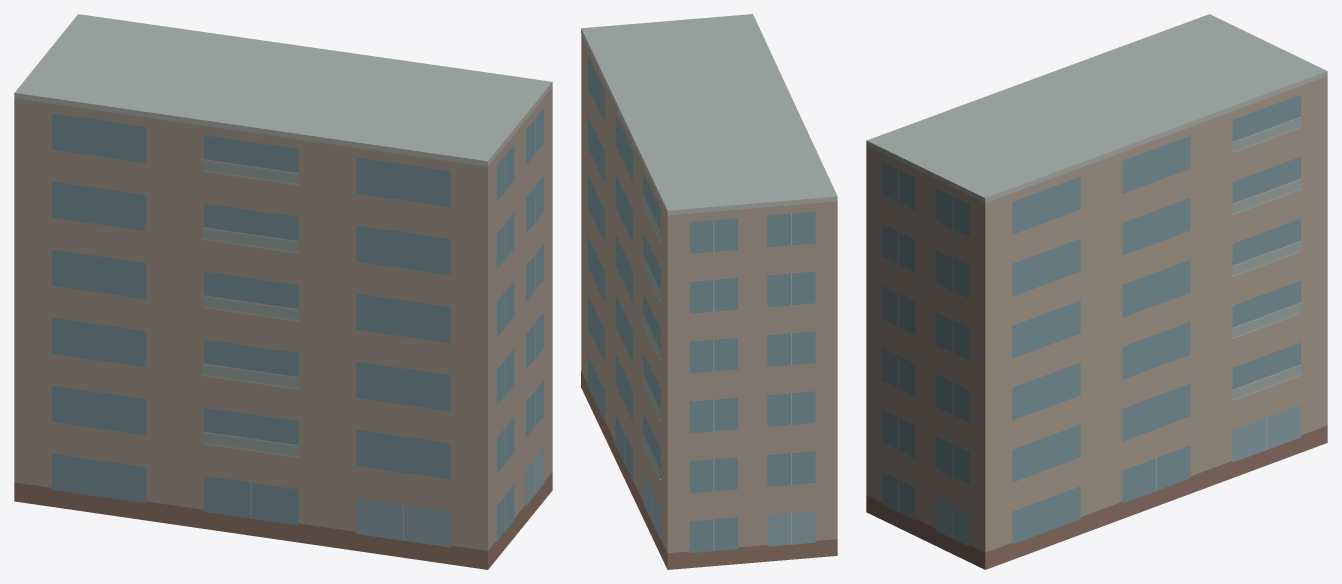
The model's file is survey-upis-32886829.glb.
The picture shows the model from 3 angles, left to right: view 1: azimuth 30°, elevation 25°; view 2: azimuth 150°, elevation 25°; view 3: azimuth 270°, elevation 25°; orthographic projection. The views are drawn at different scales.
Parts seen in each view (by area): view 1: survey-upis-32886829.tmp; view 2: survey-upis-32886829.tmp; view 3: survey-upis-32886829.tmp.
Boxes of the visible parts, bbox=[...] form: survey-upis-32886829.tmp: bbox=[14, 14, 552, 569]; survey-upis-32886829.tmp: bbox=[581, 14, 837, 569]; survey-upis-32886829.tmp: bbox=[866, 14, 1327, 569].
Bounding box in the file's own units: 19.46 × 18.3 × 20.58.
